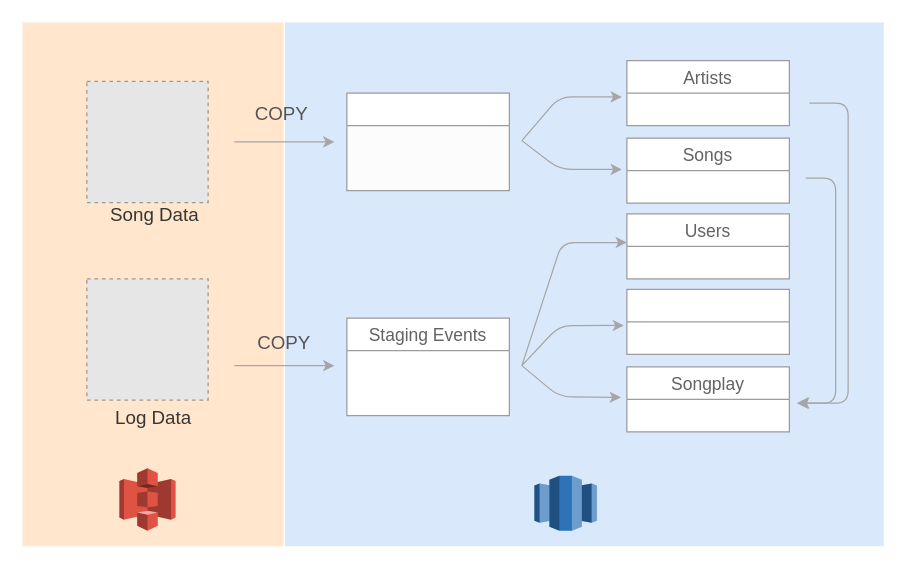
Image size: 906x569. Some labels were removed from this diagram. Grey dashed boxes stand in for pictures. Here are the shapes that lost their labels. From the top down, the centre of each, then its label:
the point at 427,141: Staging Songs
the point at 707,321: Time
